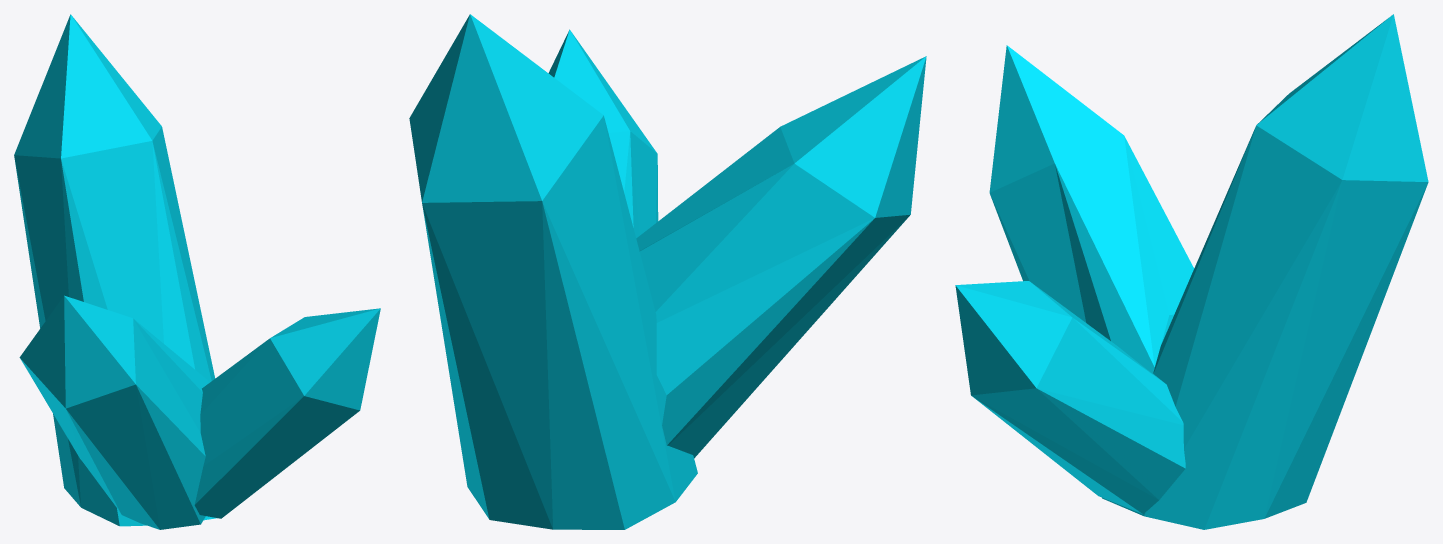
Rendered from Crystal.gltf.
3 views of the same model, side by side, from view 1: azimuth 30°, elevation 25°; view 2: azimuth 150°, elevation 25°; view 3: azimuth 270°, elevation 25° (orthographic). The views are drawn at different scales.
Visible parts, largest first — view 1: Crystal; view 2: Crystal; view 3: Crystal.
Part boxes in pixels (box(x1,y1,x2,y2)): Crystal: box(14, 14, 380, 529); Crystal: box(409, 14, 926, 529); Crystal: box(955, 14, 1428, 529).
Bounding box in the file's own units: 6.25 × 8.01 × 7.22.
